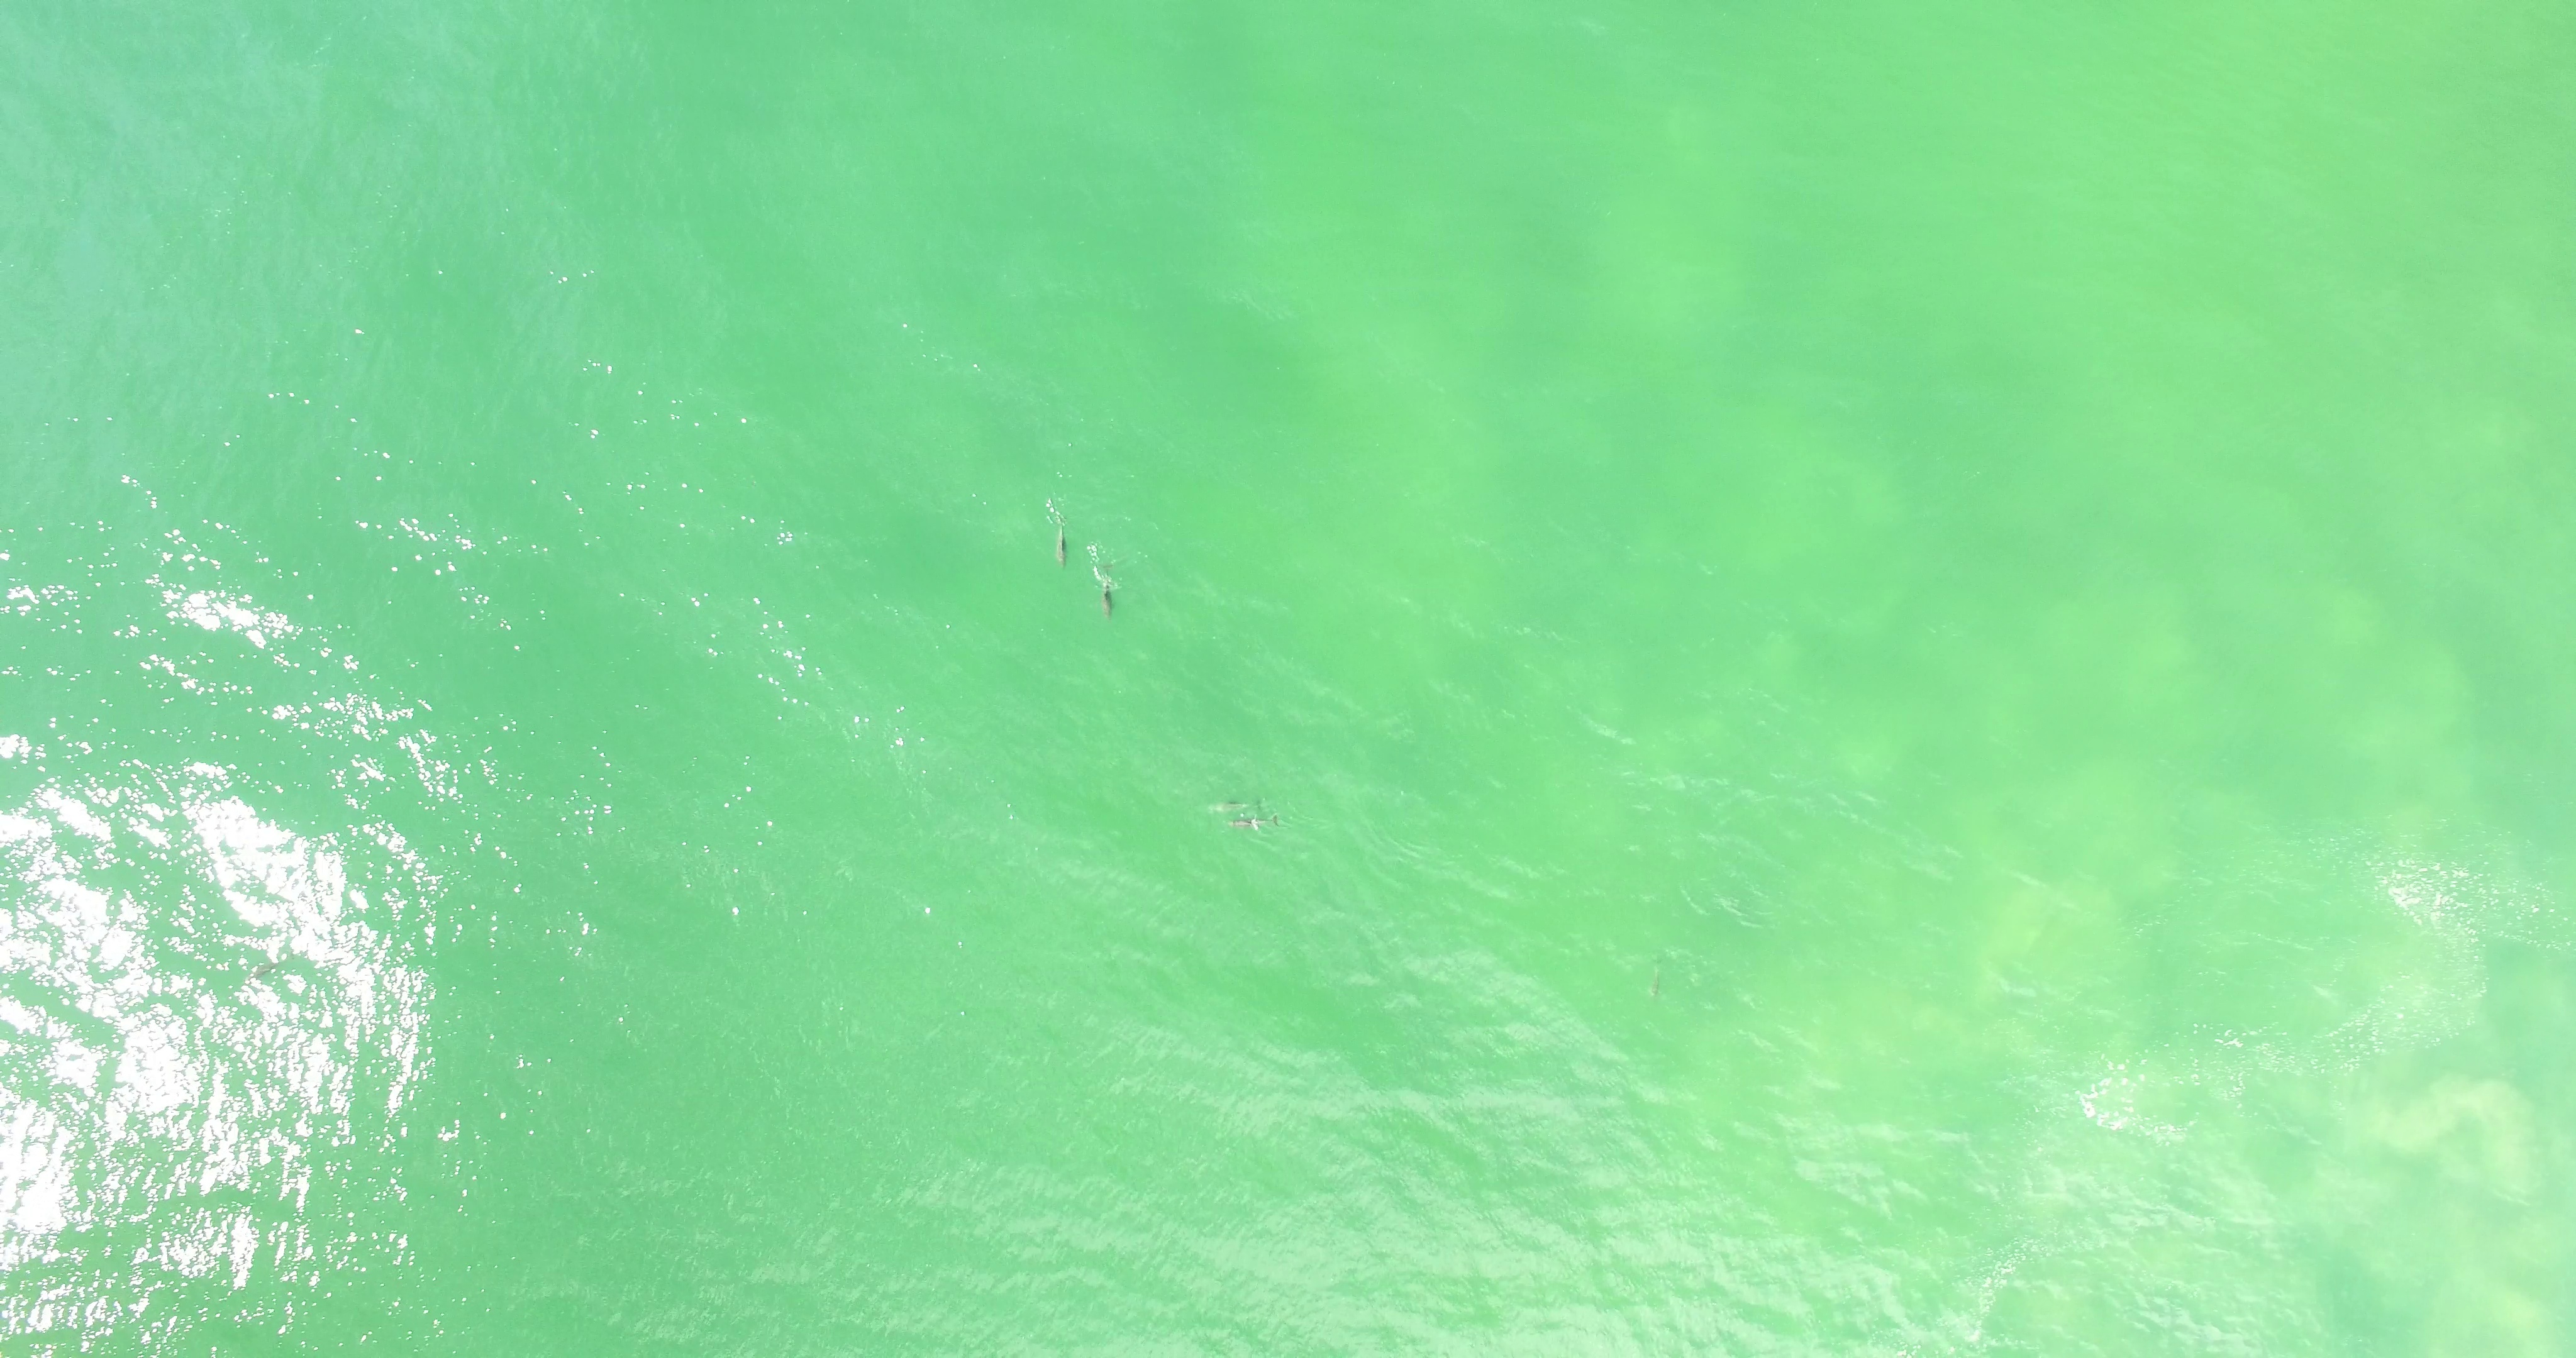dolphin: (247, 949, 290, 985), (1051, 504, 1072, 569), (1094, 559, 1116, 619), (1225, 813, 1283, 830), (1646, 958, 1666, 1005), (1206, 796, 1261, 813)
